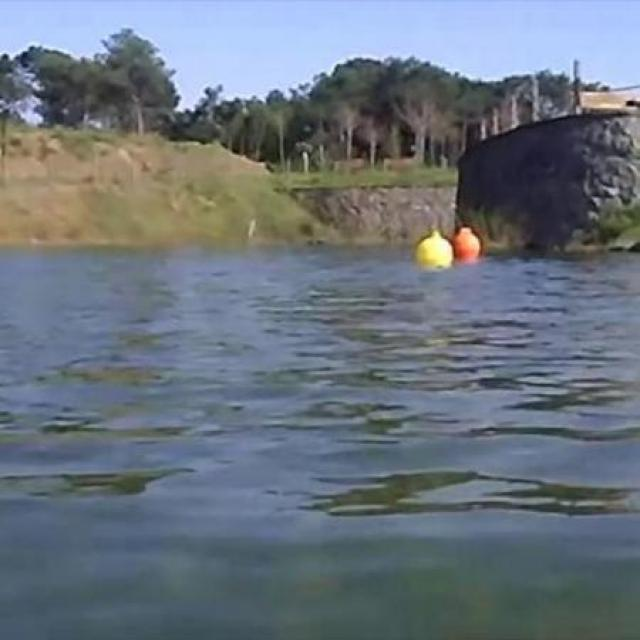buoy: (417, 233, 455, 269), (452, 226, 481, 258)
